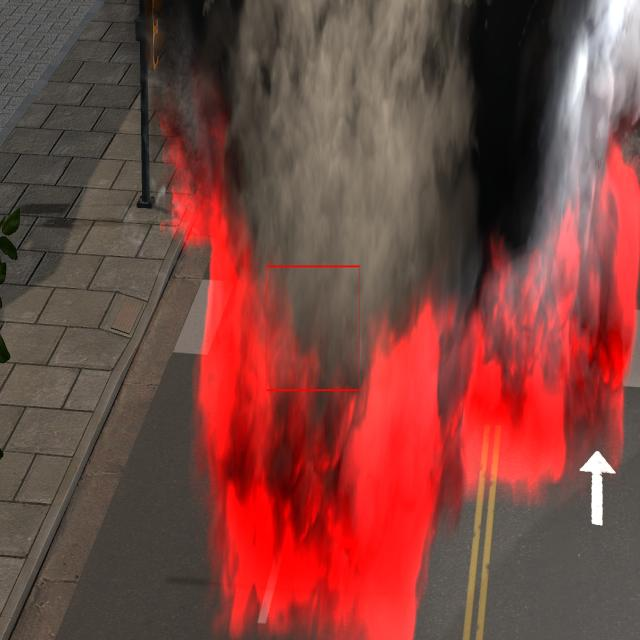Human: (266, 267, 360, 388)
